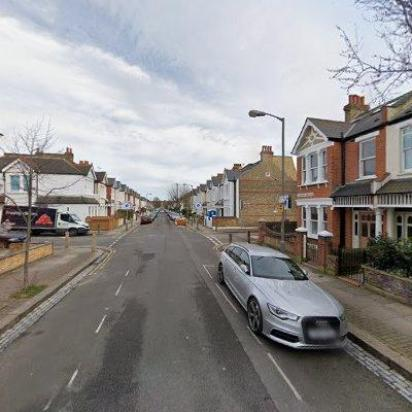stationary-car-onstreet: (218, 241, 350, 355), (0, 226, 31, 248), (140, 213, 152, 225)
stationary-heavy-truck-onstreet: (0, 205, 90, 235)
x_other: (174, 213, 186, 225)
